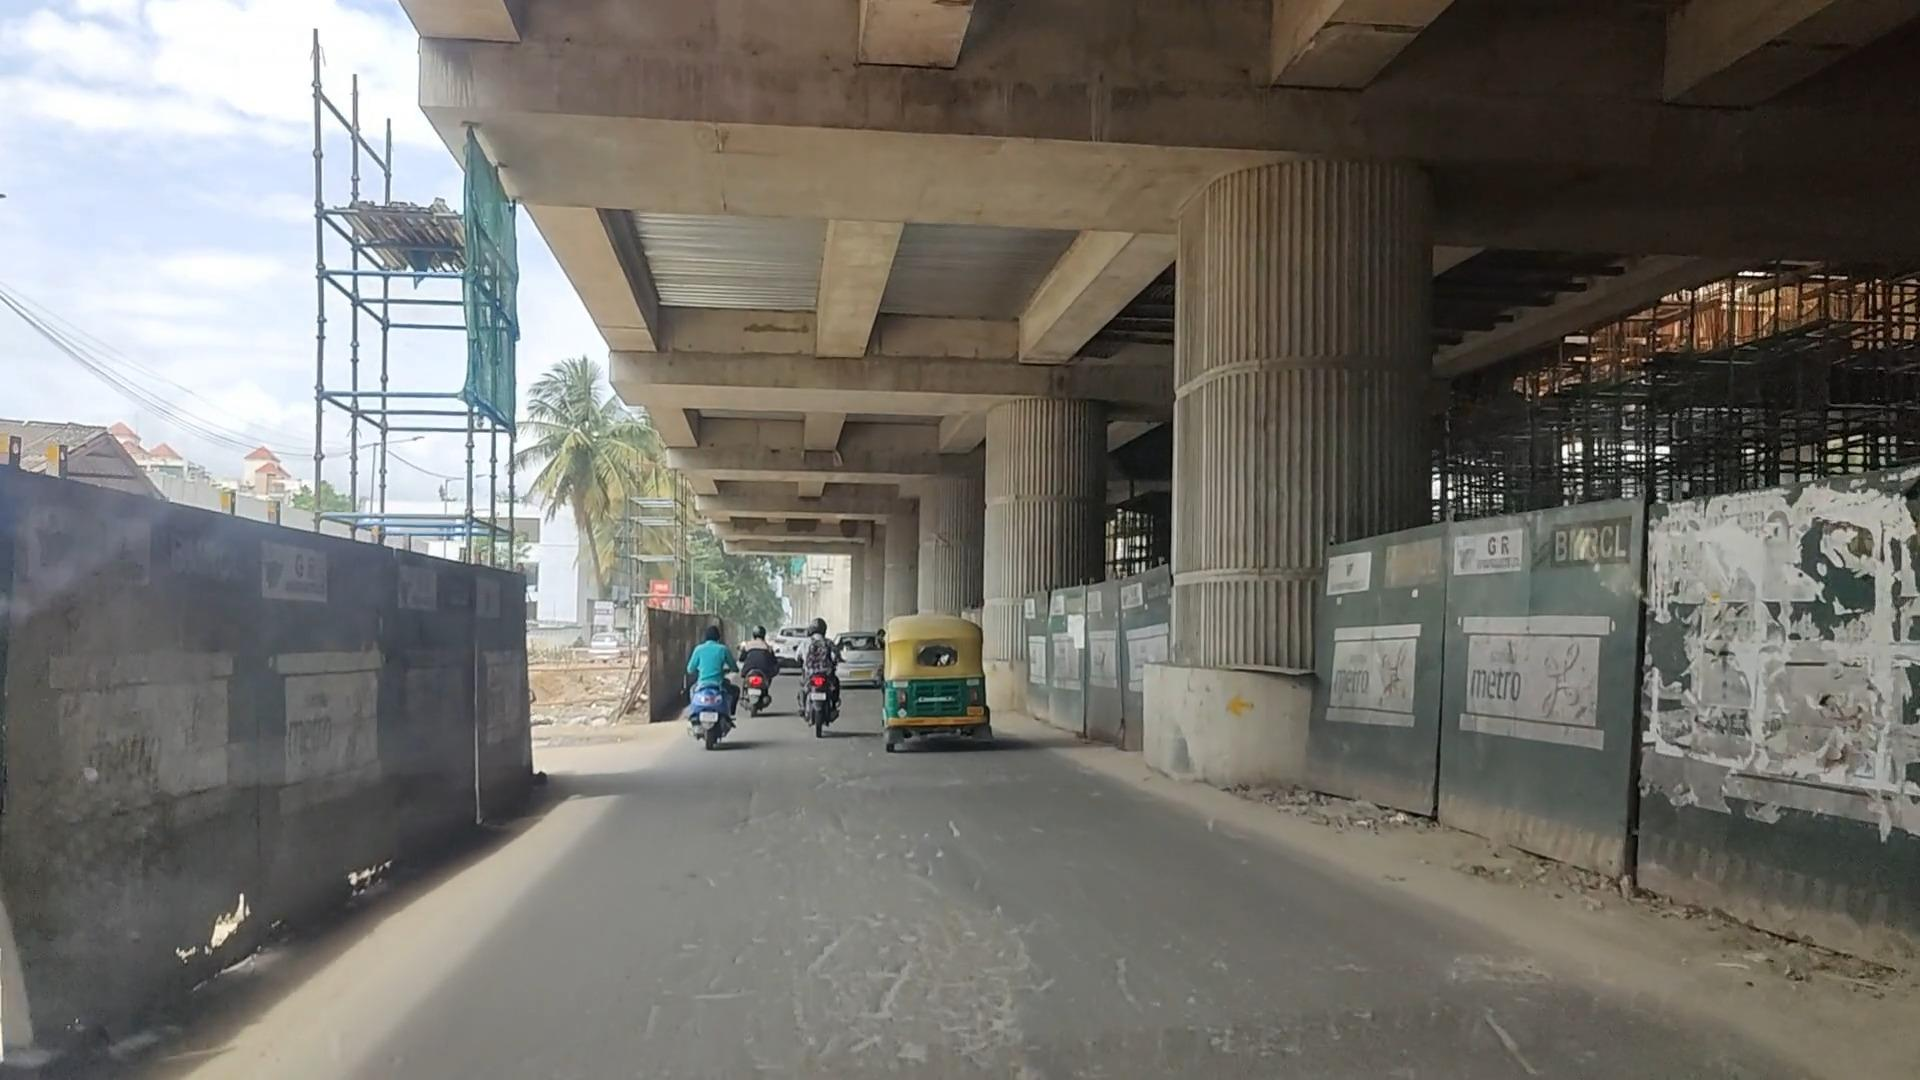LMV: (870, 590, 993, 782), (785, 604, 854, 785), (686, 616, 747, 777)
RoadDamages: (575, 904, 1681, 1072), (704, 772, 1150, 921)
